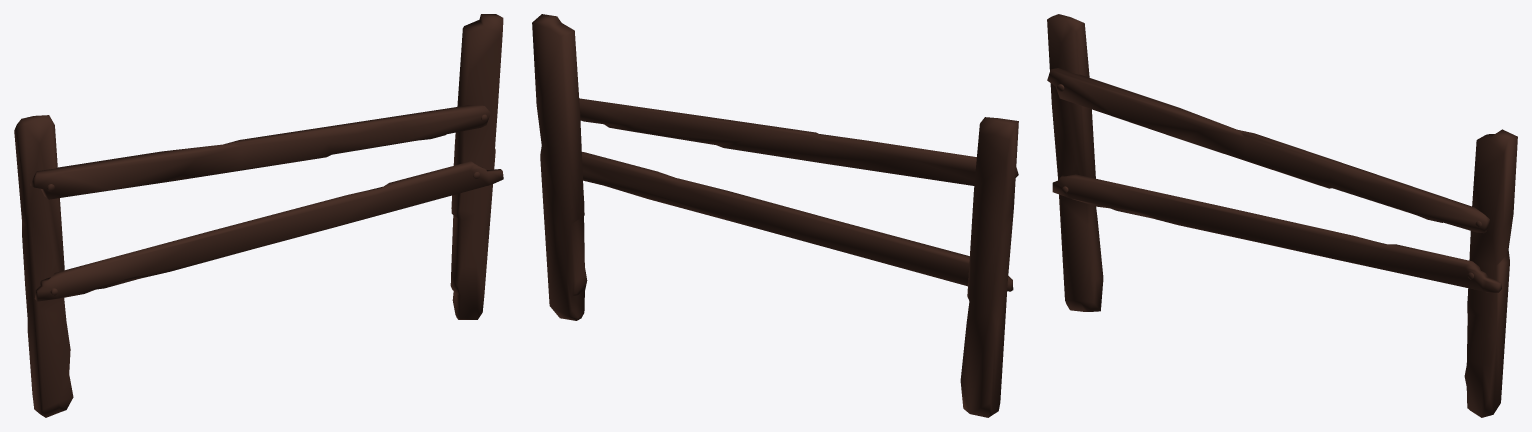
File: SM_Fence_03.fbx
The picture shows the model from 3 angles, left to right: view 1: azimuth 30°, elevation 25°; view 2: azimuth 150°, elevation 25°; view 3: azimuth 330°, elevation 25°; orthographic projection. The views are drawn at different scales.
Parts seen in each view (by area): view 1: SM_Fence_03_LOD0; view 2: SM_Fence_03_LOD0; view 3: SM_Fence_03_LOD0.
Boxes of the visible parts, x1,y1,x2,y2 form: SM_Fence_03_LOD0: [14, 14, 503, 417]; SM_Fence_03_LOD0: [532, 14, 1018, 417]; SM_Fence_03_LOD0: [1047, 14, 1517, 417].
Size of what is drawn, in the model's own units: 238 by 144 by 15.61.
